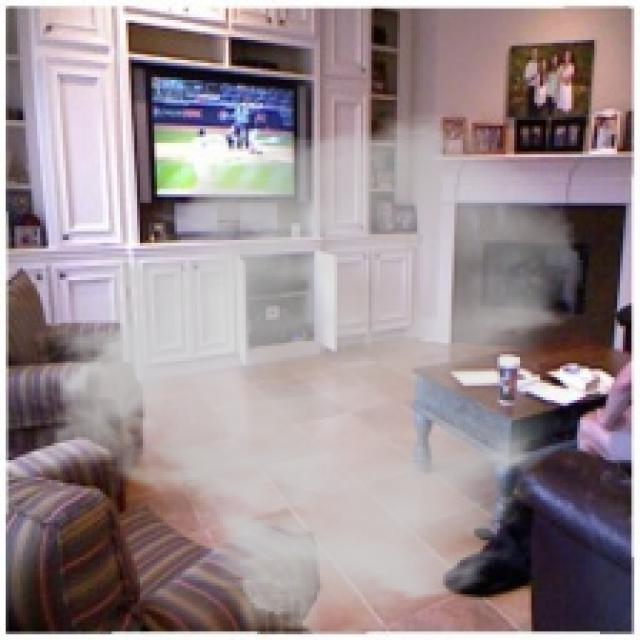smoke: (20, 109, 591, 637)
